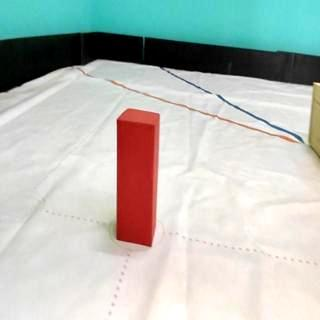redbox: (116, 108, 160, 246)
